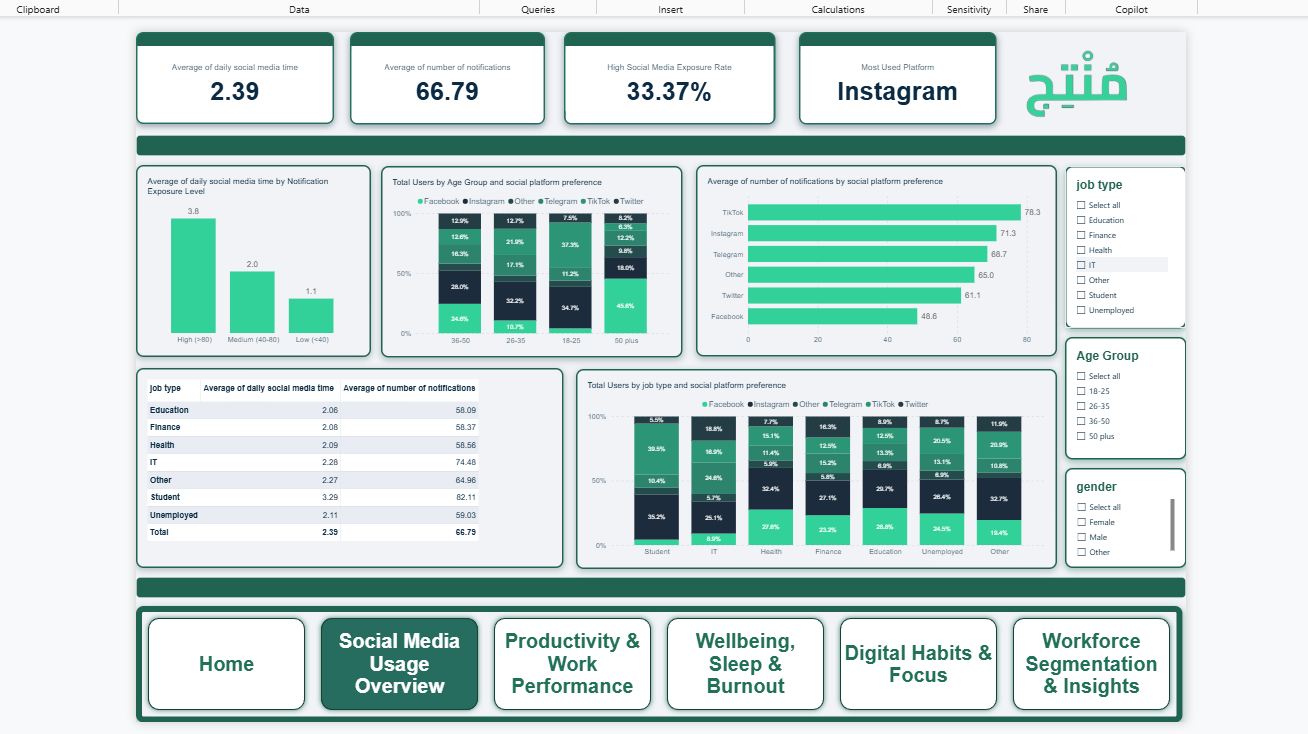

Layout of this report page (visuals, bound fields, positions):
{"tool":"powerbi","page":{"name":"Social Media Usage Overview","canvas":[2100,1380],"ordinal":1},"visuals":[{"type":"cardVisual","fields":{"Data":["Avg(Productivity.daily social media time)"]},"box":[0,0,396,184],"z":0},{"type":"cardVisual","fields":{"Data":["Avg(Productivity.number of notifications)"]},"box":[427.5,0,390,185],"z":1000},{"type":"cardVisual","fields":{"Data":["Measures (2).High Social Media Exposure Rate"]},"box":[855,0,422.5,185],"z":2000},{"type":"cardVisual","fields":{"Data":["Measures (2).Most Used Platform"]},"box":[1325,0,395,185],"z":3000},{"type":"hundredPercentStackedColumnChart","fields":{"Category":["Productivity.job_type"],"Series":["Productivity.social platform preference"],"Y":["myMeasures.Total Users"]},"box":[880,673.3,961.7,400],"z":4000},{"type":"shape","box":[0,206.7,2100,36.7],"z":5000},{"type":"image","box":[1654,0,446,206],"z":6000},{"type":"clusteredBarChart","fields":{"Category":["Productivity.social_platform_preference"],"Y":["Avg(Productivity.number_of_notifications)"]},"box":[1120,265,721.7,383.3],"z":7000},{"type":"pivotTable","fields":{"Rows":["Productivity.job_type"],"Values":["Avg(Productivity.daily_social_media_time)","Avg(Productivity.number_of_notifications)"]},"box":[0,672.5,855,400],"z":8000},{"type":"hundredPercentStackedColumnChart","fields":{"Category":["Productivity.Age Group"],"Series":["Productivity.social_platform_preference"],"Y":["myMeasures.Total Users"]},"box":[490,267.5,602.5,382.5],"z":9000},{"type":"clusteredColumnChart","fields":{"Category":["Productivity.notification_exposure_level"],"Y":["Avg(Productivity.daily social media time)"]},"box":[0,266,470,384],"z":10000},{"type":"shape","box":[0,1090,2100,14],"z":11000},{"type":"listSlicer","fields":{"Values":["Productivity.job type"]},"box":[1857.5,267.5,242.5,325],"z":12000},{"type":"listSlicer","fields":{"Values":["Productivity.Age Group"]},"box":[1857.5,610,242.5,245],"z":13000},{"type":"listSlicer","fields":{"Values":["Productivity.gender"]},"box":[1857.5,872.5,242.5,200],"z":14000},{"type":"pageNavigator","box":[0,1147.5,2092.5,232.5],"z":15000}]}

Visuals, with their boxes on the page's 2100x1380 design canvas (x1, y1, x2, y2). These are canvas units, not pixel positions in the 1308x734 screenshot, which may show the page scaled, cropped or inside an application window:
cardVisual - Avg(Productivity.daily social media time): {"left": 0, "top": 0, "right": 396, "bottom": 184}
cardVisual - Avg(Productivity.number of notifications): {"left": 428, "top": 0, "right": 818, "bottom": 185}
cardVisual - Measures (2).High Social Media Exposure Rate: {"left": 855, "top": 0, "right": 1278, "bottom": 185}
cardVisual - Measures (2).Most Used Platform: {"left": 1325, "top": 0, "right": 1720, "bottom": 185}
hundredPercentStackedColumnChart - Productivity.job_type x Productivity.social platform preference: {"left": 880, "top": 673, "right": 1842, "bottom": 1073}
shape: {"left": 0, "top": 207, "right": 2100, "bottom": 243}
image: {"left": 1654, "top": 0, "right": 2100, "bottom": 206}
clusteredBarChart - Productivity.social_platform_preference x Avg(Productivity.number_of_notifications): {"left": 1120, "top": 265, "right": 1842, "bottom": 648}
pivotTable - Productivity.job_type x Avg(Productivity.daily_social_media_time): {"left": 0, "top": 672, "right": 855, "bottom": 1072}
hundredPercentStackedColumnChart - Productivity.Age Group x Productivity.social_platform_preference: {"left": 490, "top": 268, "right": 1092, "bottom": 650}
clusteredColumnChart - Productivity.notification_exposure_level x Avg(Productivity.daily social media time): {"left": 0, "top": 266, "right": 470, "bottom": 650}
shape: {"left": 0, "top": 1090, "right": 2100, "bottom": 1104}
listSlicer - Productivity.job type: {"left": 1858, "top": 268, "right": 2100, "bottom": 592}
listSlicer - Productivity.Age Group: {"left": 1858, "top": 610, "right": 2100, "bottom": 855}
listSlicer - Productivity.gender: {"left": 1858, "top": 872, "right": 2100, "bottom": 1072}
pageNavigator: {"left": 0, "top": 1148, "right": 2092, "bottom": 1380}
